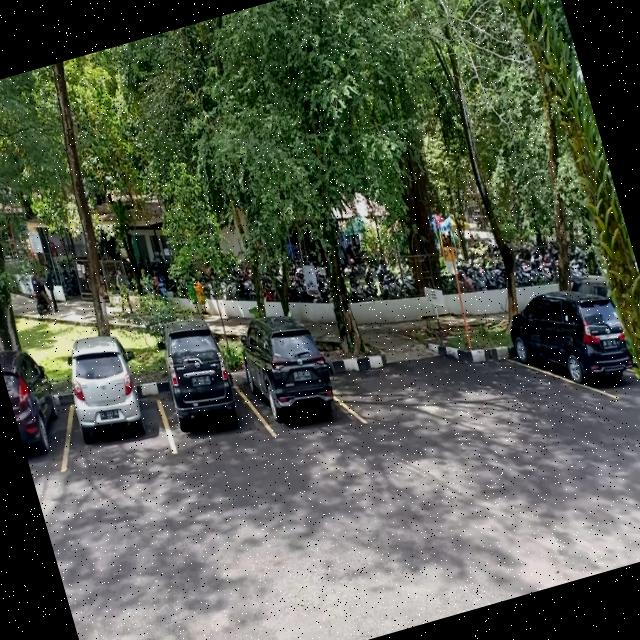occupied: (506, 288, 640, 406), (232, 320, 346, 442), (54, 362, 172, 470), (150, 346, 254, 449), (4, 368, 74, 477)
